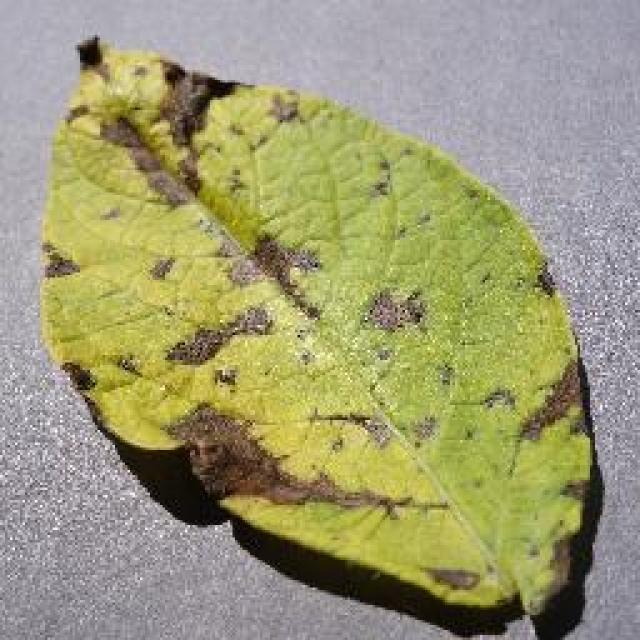early_blight: (32, 33, 602, 635)
